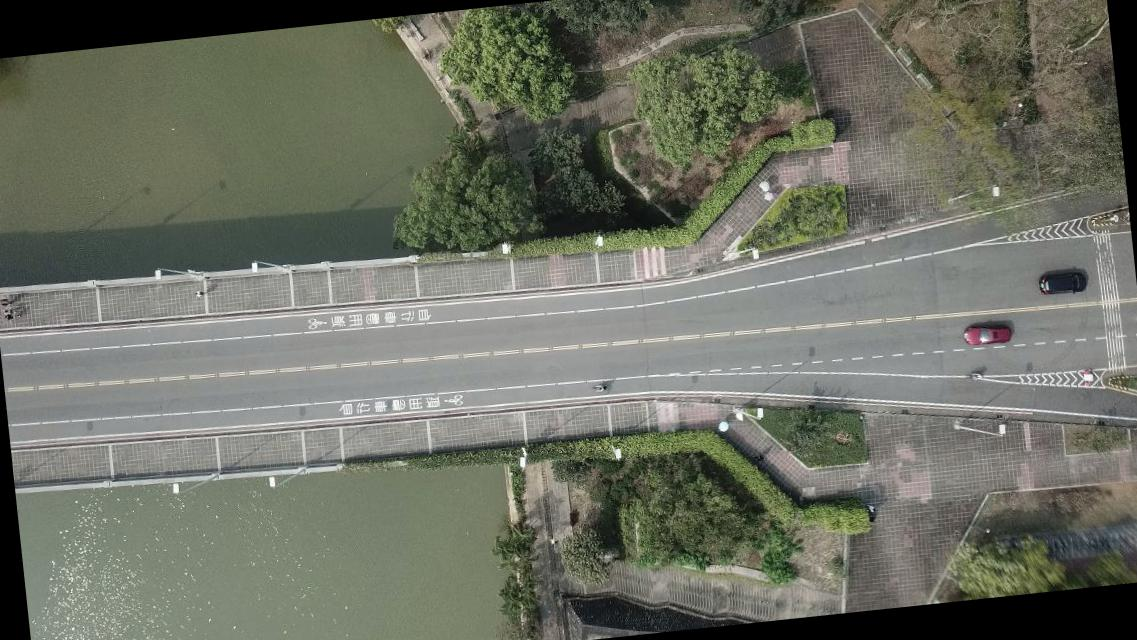vehicle: (1038, 270, 1087, 296), (962, 322, 1012, 347)
